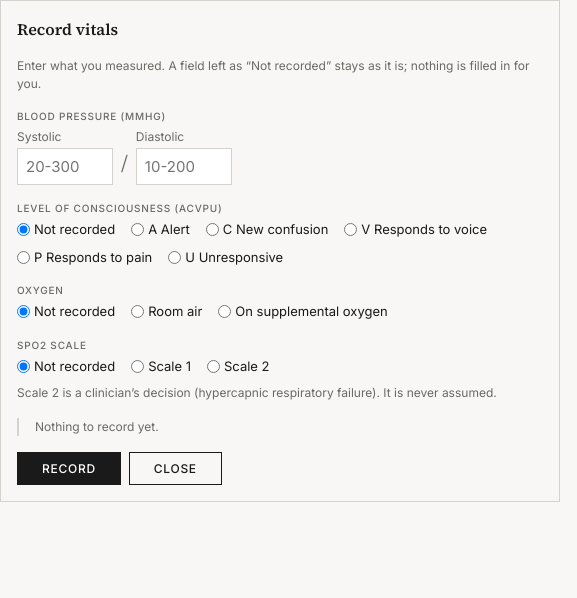
Test: what the server refuses is shown as the server said it › shows a plain-text reason from the server's own bounds
In the field labelled "Systolic": (65, 166) x1=17 y1=148 x2=113 y2=185, type "130"
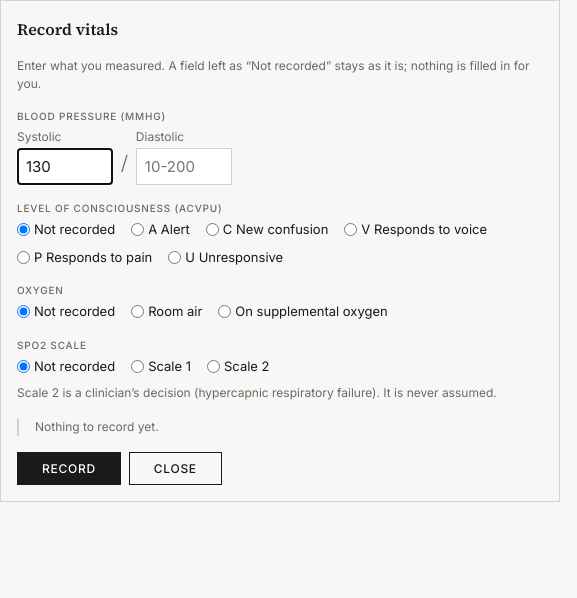
In the field labelled "Diastolic": (184, 166) x1=136 y1=148 x2=232 y2=185, type "84"
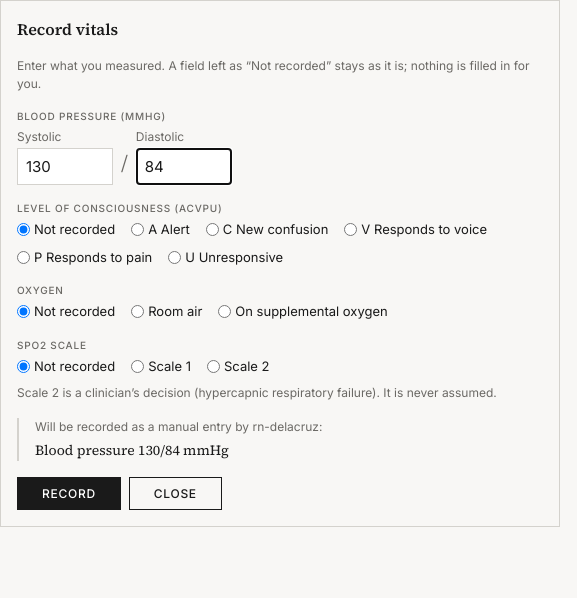
Click the button "Record": (69, 494) x1=17 y1=477 x2=121 y2=510
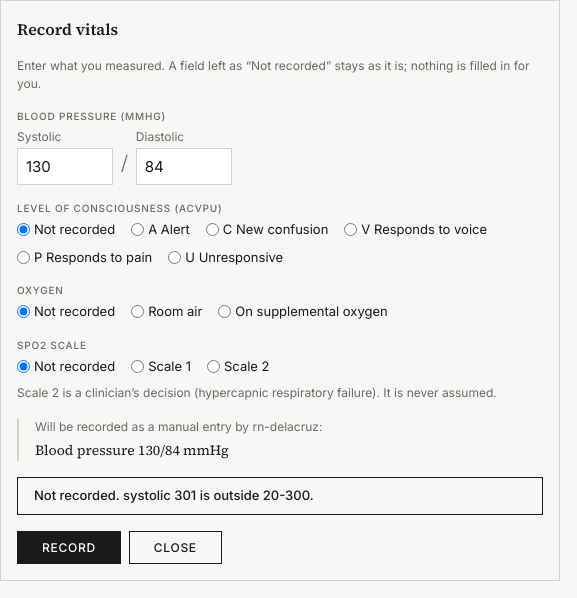
Now the message reads "Not recorded. systolic 301 is outside 20-300.", box x1=34 y1=487 x2=314 y2=503
